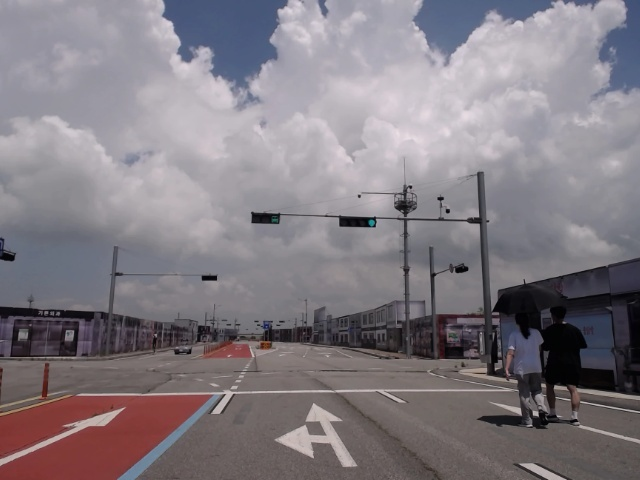straight_green_4: (338, 218, 378, 228)
